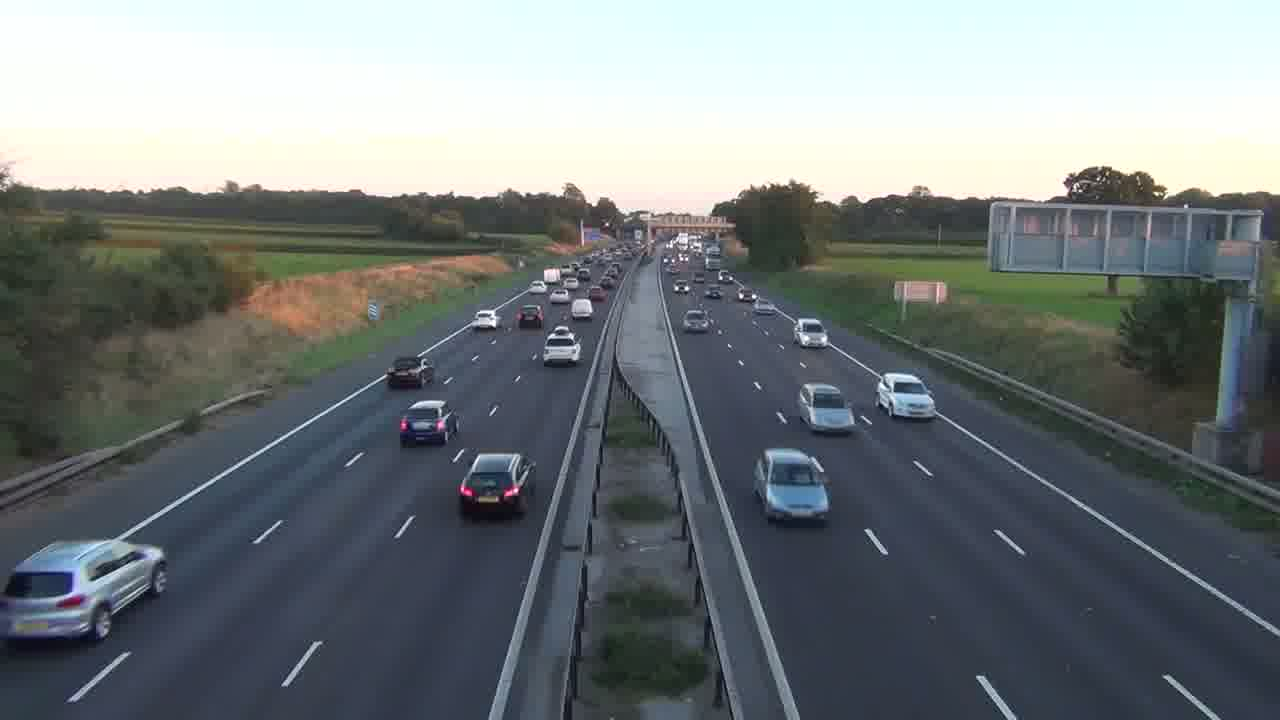car: (0, 537, 168, 647), (752, 448, 832, 524), (456, 451, 537, 519), (876, 371, 937, 421), (797, 382, 855, 434), (398, 399, 454, 446), (386, 354, 435, 390), (543, 330, 582, 366), (793, 317, 828, 349), (683, 307, 710, 334)
